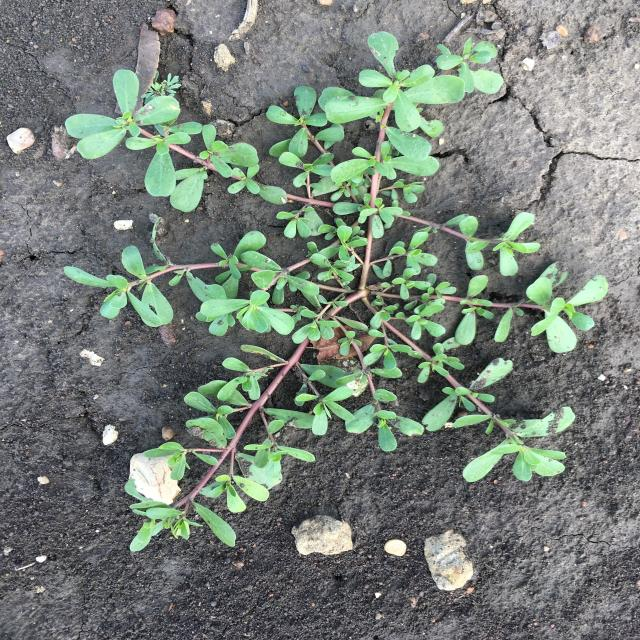Purslane: (64, 31, 608, 552)
